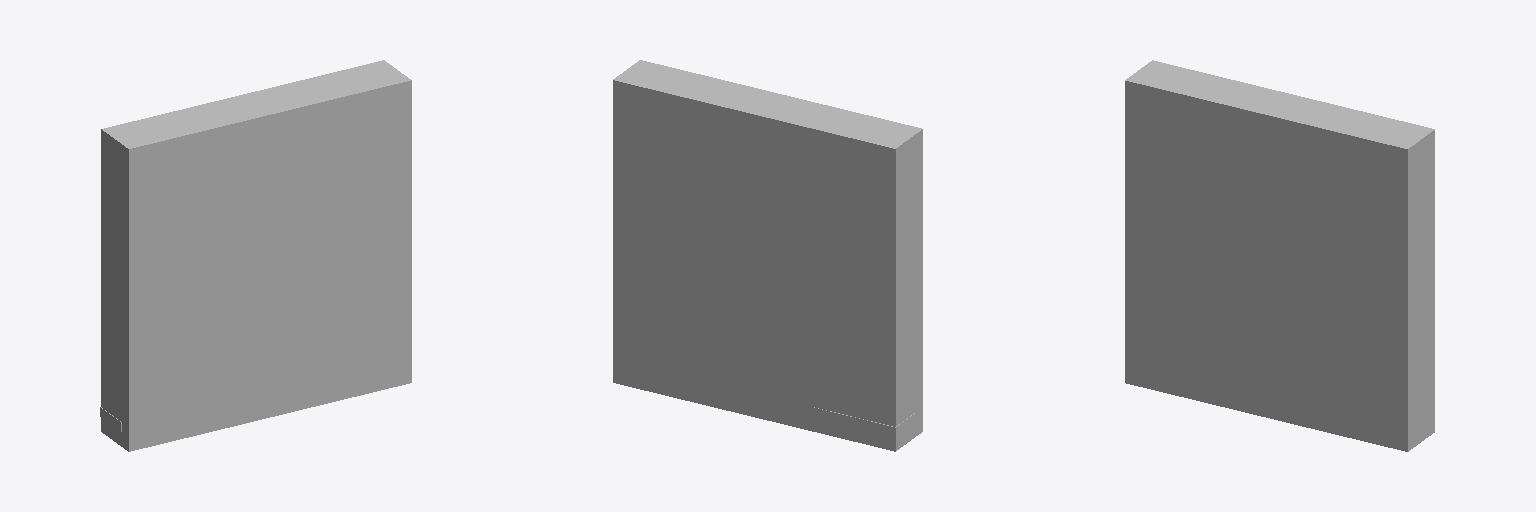
The model's file is stair wall4.obj.
The picture shows the model from 3 angles: view 1: azimuth 30°, elevation 25°; view 2: azimuth 150°, elevation 25°; view 3: azimuth 330°, elevation 25°; orthographic projection.
Parts seen in each view (by area): view 1: Part3; view 2: Part3, Part2; view 3: Part3.
Part boxes in pixels (bbox=[...]): Part3: bbox=[101, 60, 411, 451]; Part3: bbox=[613, 60, 922, 451]; Part2: bbox=[811, 407, 895, 437]; Part3: bbox=[1125, 60, 1434, 451].
Size of the model in its own units: 20.34 by 20.76 by 3.48.